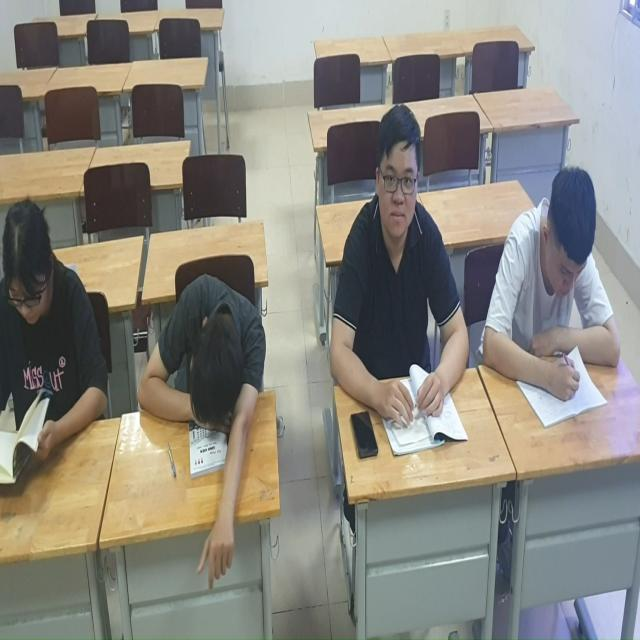sleep: (139, 275, 266, 584)
study: (331, 110, 466, 445), (486, 168, 619, 409), (0, 194, 106, 496)
